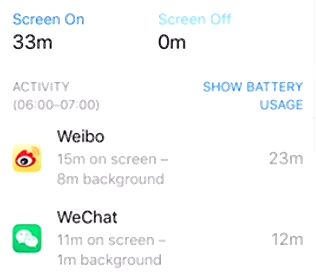activity: (6, 76, 107, 113)
app: (6, 205, 309, 272), (7, 126, 310, 188)
